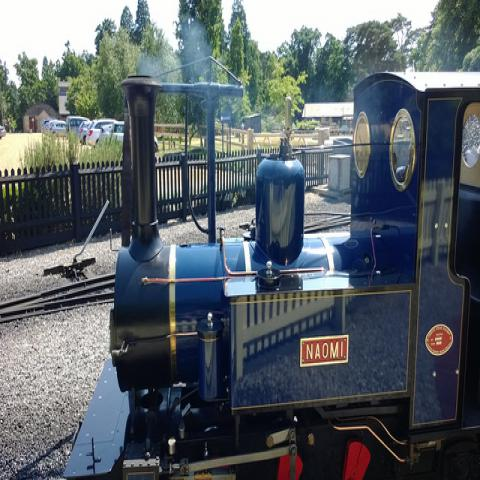car: (101, 120, 158, 149), (85, 118, 118, 146), (68, 117, 90, 140), (78, 119, 92, 145), (50, 120, 68, 131), (0, 123, 7, 142), (44, 120, 58, 128), (50, 130, 66, 136)
